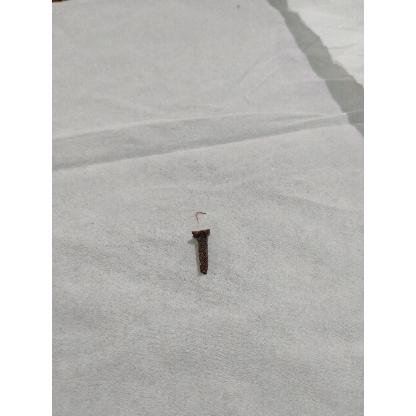buruk: (192, 229, 211, 276)
